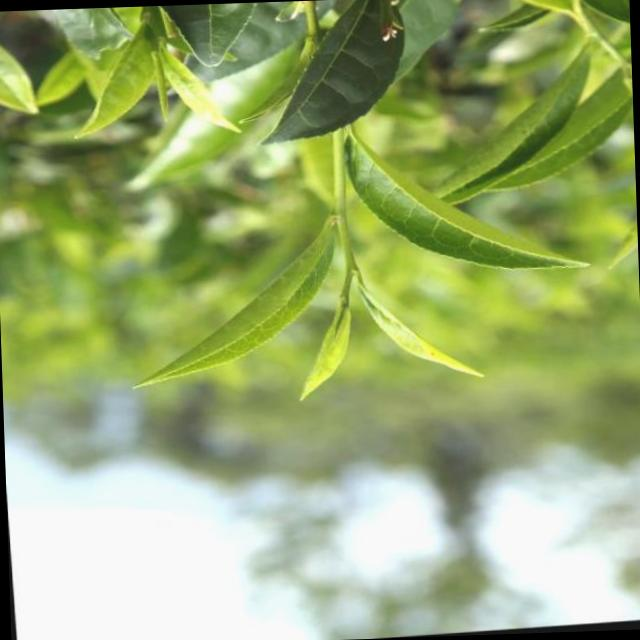Stem: (346, 264, 356, 271)
